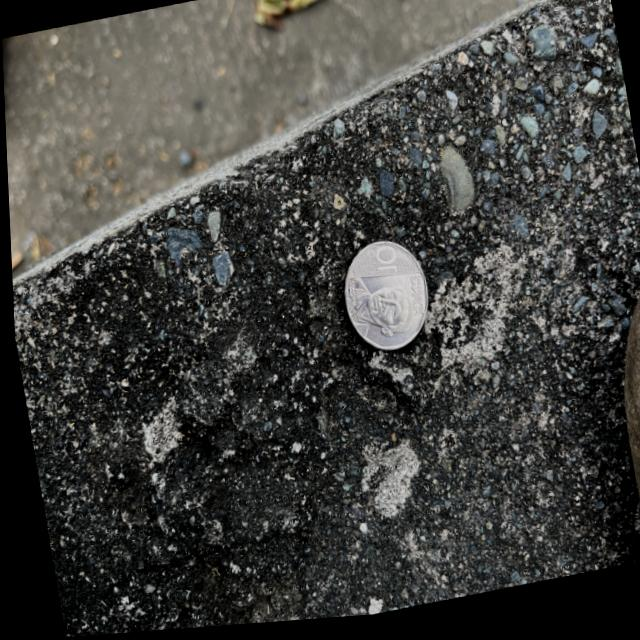10_New_Front: (359, 246, 402, 283)
